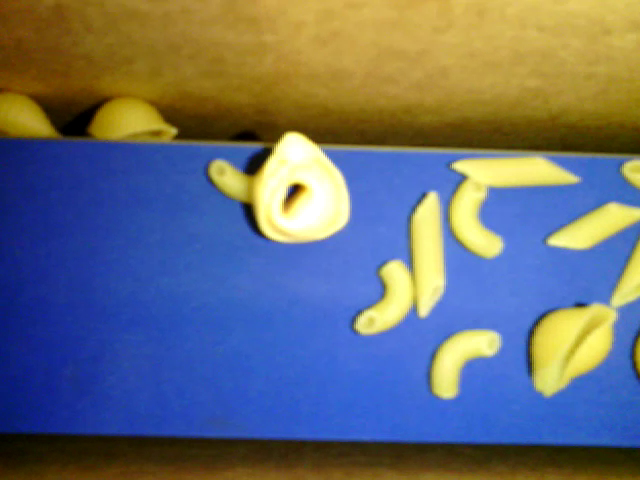elbow: (348, 255, 417, 338), (426, 327, 501, 402), (447, 174, 505, 260), (204, 153, 256, 207), (618, 158, 639, 194)
penne: (405, 191, 448, 317), (452, 154, 582, 194), (540, 201, 639, 252), (607, 222, 639, 310)
shell: (528, 299, 619, 399), (90, 102, 180, 141), (1, 91, 60, 139)
tortellini: (249, 127, 346, 241)
